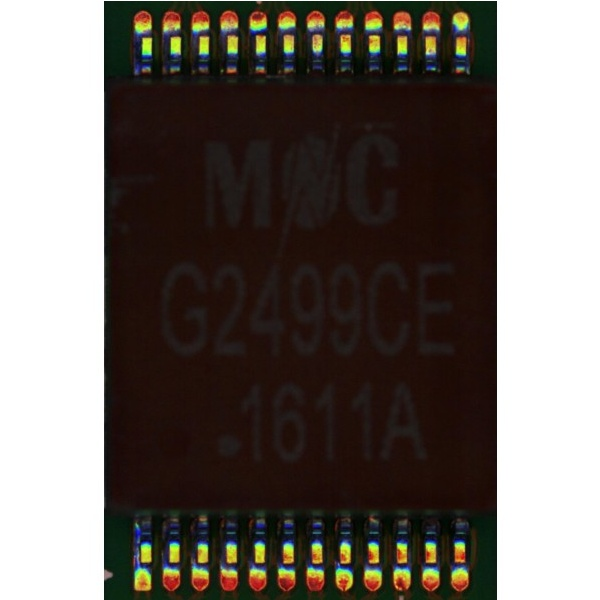Bad_qiaojiao: (133, 522, 139, 568)
